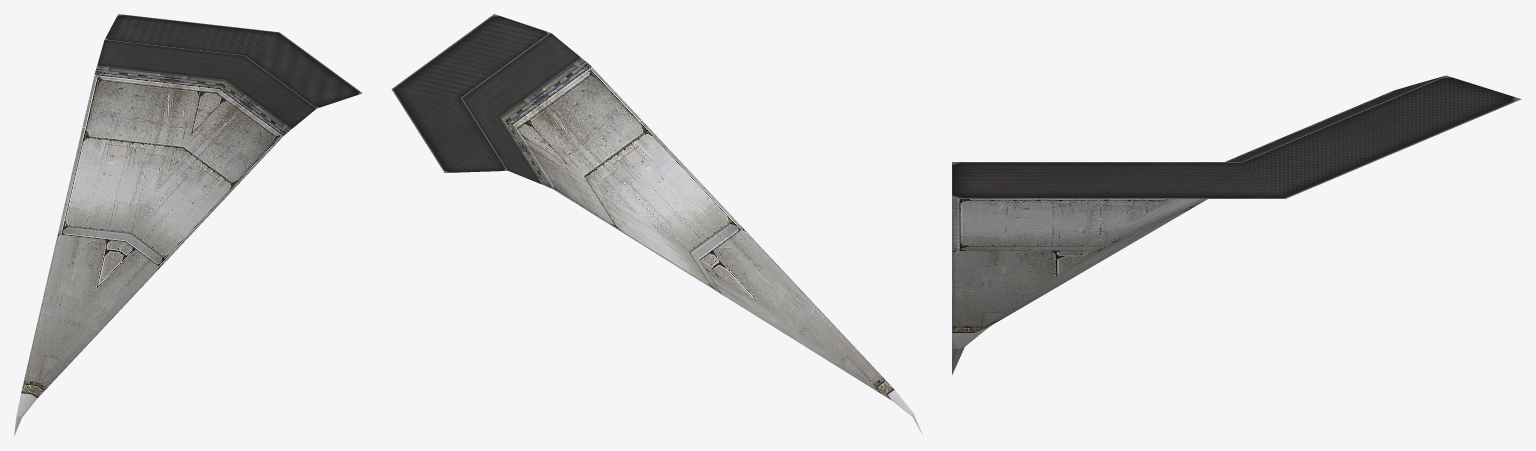
File: Roof_A_Big4mts05.fbx
3 renders of one model, left to right at view 1: azimuth 30°, elevation 25°; view 2: azimuth 150°, elevation 25°; view 3: azimuth 270°, elevation 25°, orthographic. The views are drawn at different scales.
Parts seen in each view (by area): view 1: Roof_A_Big4mts05; view 2: Roof_A_Big4mts05; view 3: Roof_A_Big4mts05.
Part boxes in pixels (x1,y1,x2,y2): Roof_A_Big4mts05: [14, 14, 362, 436]; Roof_A_Big4mts05: [391, 14, 922, 434]; Roof_A_Big4mts05: [952, 75, 1521, 374].
Bounding box in the file's own units: 500 × 354 × 354.
